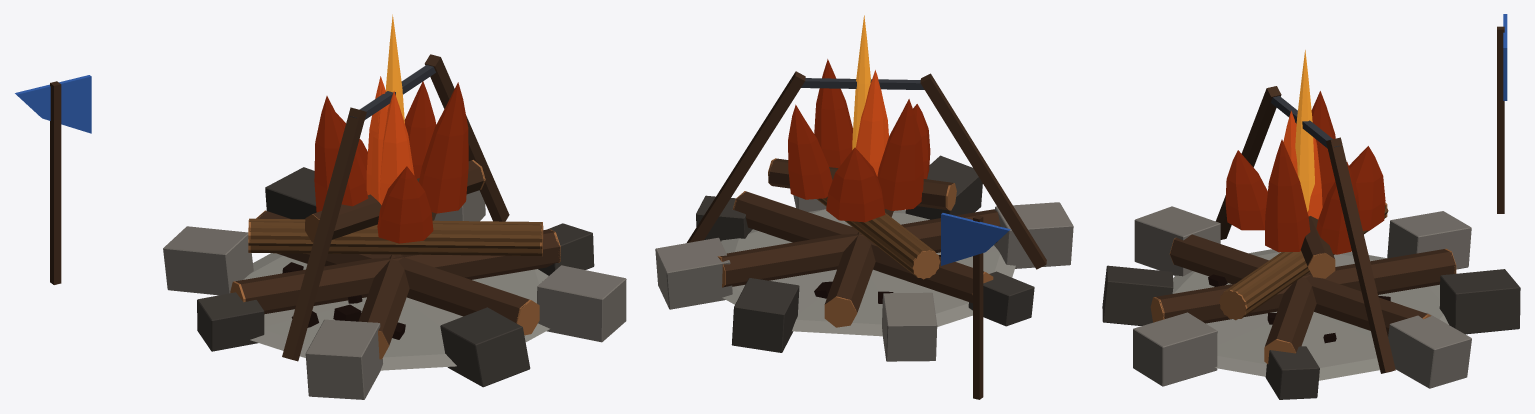
3 renders of one model, left to right at view 1: azimuth 30°, elevation 25°; view 2: azimuth 150°, elevation 25°; view 3: azimuth 270°, elevation 25°, orthographic. The views are drawn at different scales.
Parts seen in each view (by area): view 1: BF-主体, BF-自发光, BF-team; view 2: BF-主体, BF-自发光, BF-team; view 3: BF-主体, BF-自发光, BF-team.
Part boxes in pixels (<box>): BF-主体: <box>50,54,626,399</box>; BF-自发光: <box>282,14,468,339</box>; BF-team: <box>15,75,91,133</box>; BF-主体: <box>655,71,1073,399</box>; BF-自发光: <box>788,15,940,303</box>; BF-team: <box>941,213,1010,265</box>; BF-主体: <box>1102,26,1520,399</box>; BF-自发光: <box>1208,50,1390,343</box>; BF-team: <box>1503,14,1507,100</box>.
Size of the model in its own units: 3.17 by 1.96 by 2.72.
Materials: 3 (2 with a texture image).
